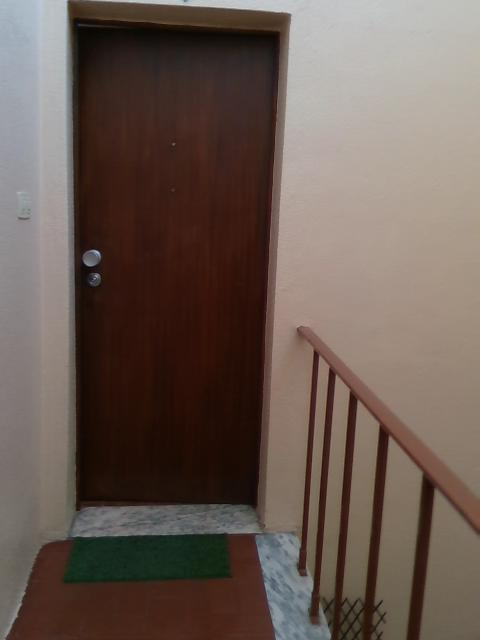closed_door: (73, 14, 279, 511)
